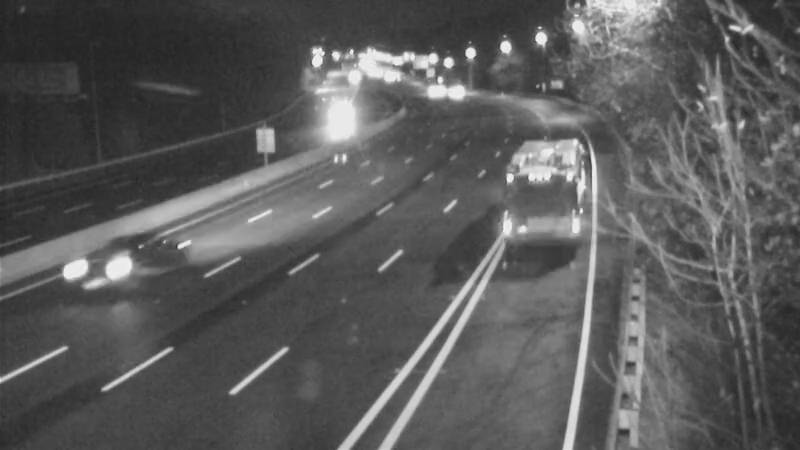vehicle: (490, 155, 570, 235), (60, 231, 140, 311), (405, 65, 455, 115), (423, 64, 473, 114), (321, 97, 371, 147)
